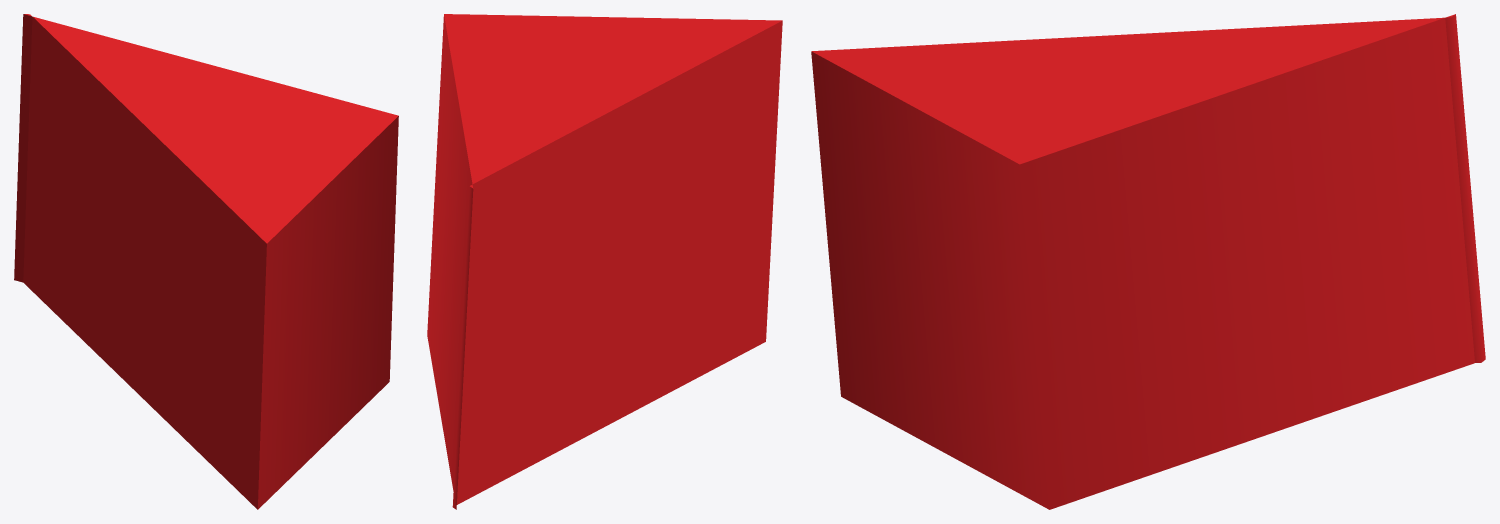
Rendered from triangulo.fbx.
3 renders of one model, left to right at view 1: azimuth 30°, elevation 25°; view 2: azimuth 150°, elevation 25°; view 3: azimuth 270°, elevation 25°, orthographic. The views are drawn at different scales.
Visible parts, largest first — view 1: root; view 2: root; view 3: root.
Boxes of the visible parts, <box> form: root: <box>14,14,398,509</box>; root: <box>427,14,782,509</box>; root: <box>811,14,1485,509</box>.
Size of the model in its own units: 0.0827 by 0.1131 by 0.1773.
1 material, 1 textured.
